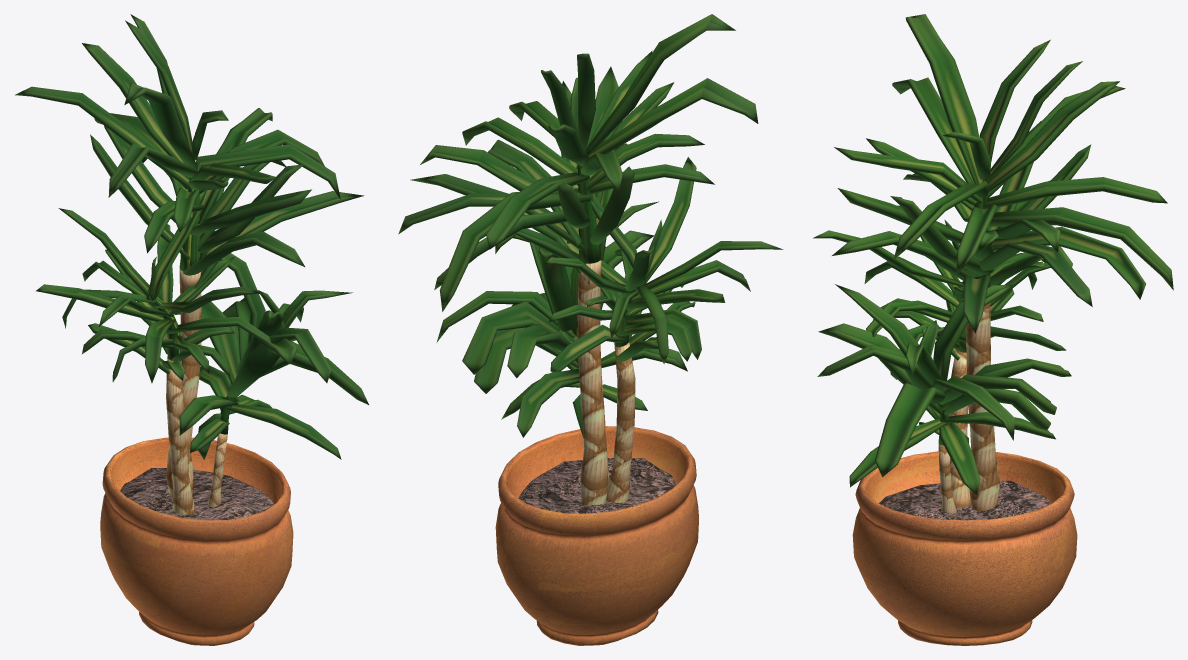
Rendered from plant 1.FBX.
3 views of the same model, side by side, from view 1: azimuth 30°, elevation 25°; view 2: azimuth 150°, elevation 25°; view 3: azimuth 270°, elevation 25° (orthographic). The views are drawn at different scales.
Visible parts, largest first — view 1: leaves_CUMesh_002, pot_Circle_001, pien_CUBezierCurve_001, dirt_001_Circle_005, baza_liscia_CUBezierCurve_000; view 2: leaves_CUMesh_002, pot_Circle_001, pien_CUBezierCurve_001, dirt_001_Circle_005, baza_liscia_CUBezierCurve_000; view 3: leaves_CUMesh_002, pot_Circle_001, pien_CUBezierCurve_001, dirt_001_Circle_005.
Boxes of the visible parts, x1=… form: leaves_CUMesh_002: x1=15, y1=14, x2=368, y2=459; pot_Circle_001: x1=100, y1=437, x2=293, y2=645; pien_CUBezierCurve_001: x1=166, y1=268, x2=227, y2=515; dirt_001_Circle_005: x1=120, y1=468, x2=273, y2=520; baza_liscia_CUBezierCurve_000: x1=179, y1=166, x2=200, y2=271; leaves_CUMesh_002: x1=398, y1=14, x2=783, y2=438; pot_Circle_001: x1=495, y1=426, x2=698, y2=645; pien_CUBezierCurve_001: x1=577, y1=260, x2=635, y2=505; dirt_001_Circle_005: x1=518, y1=458, x2=676, y2=513; baza_liscia_CUBezierCurve_000: x1=578, y1=165, x2=600, y2=263; leaves_CUMesh_002: x1=813, y1=14, x2=1173, y2=495; pot_Circle_001: x1=852, y1=451, x2=1077, y2=645; pien_CUBezierCurve_001: x1=938, y1=302, x2=999, y2=513; dirt_001_Circle_005: x1=879, y1=480, x2=1051, y2=520.
Bounding box in the file's own units: 40 × 70 × 40.
Materials: 7 (7 with a texture image).
